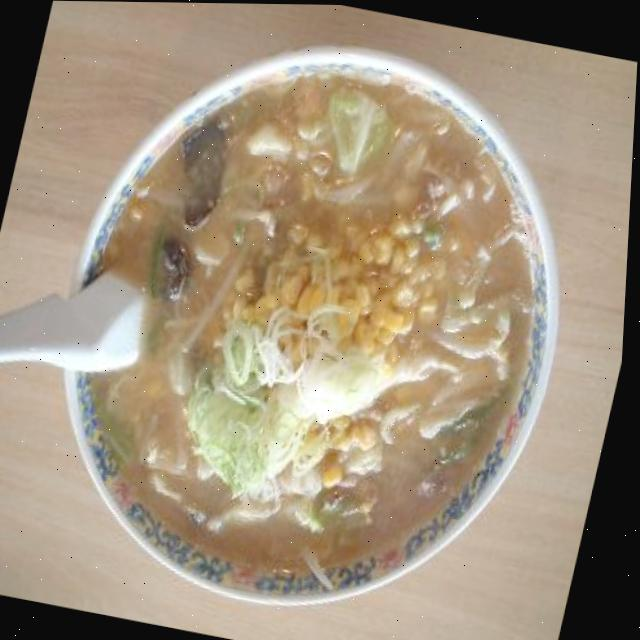面条主食: (6, 0, 614, 640)
